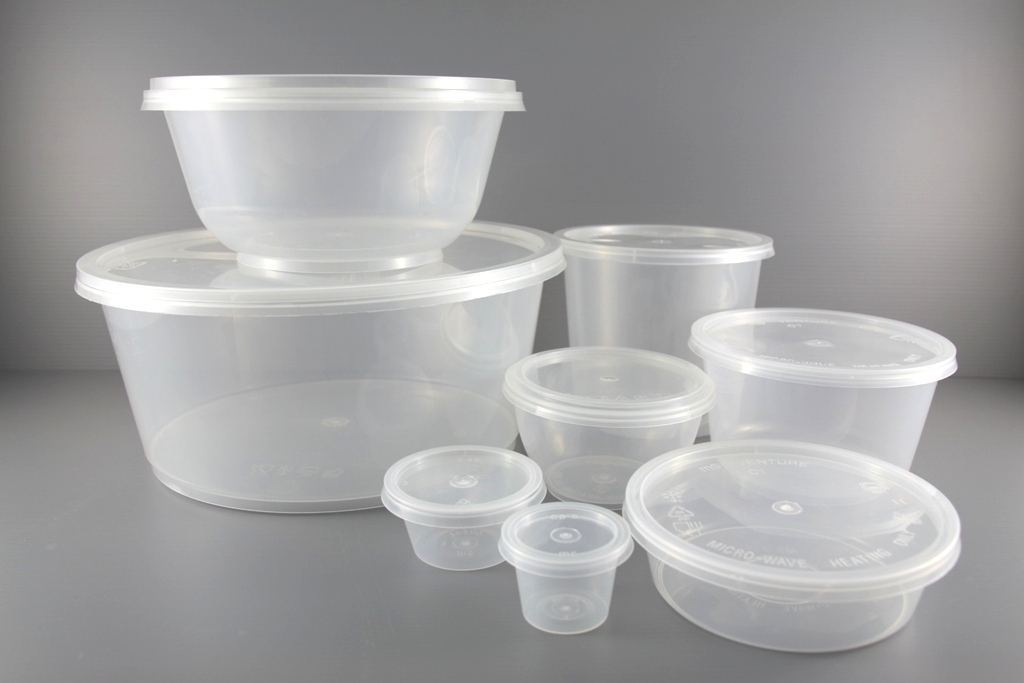PlasticBox: (133, 66, 531, 277), (497, 498, 637, 636)
